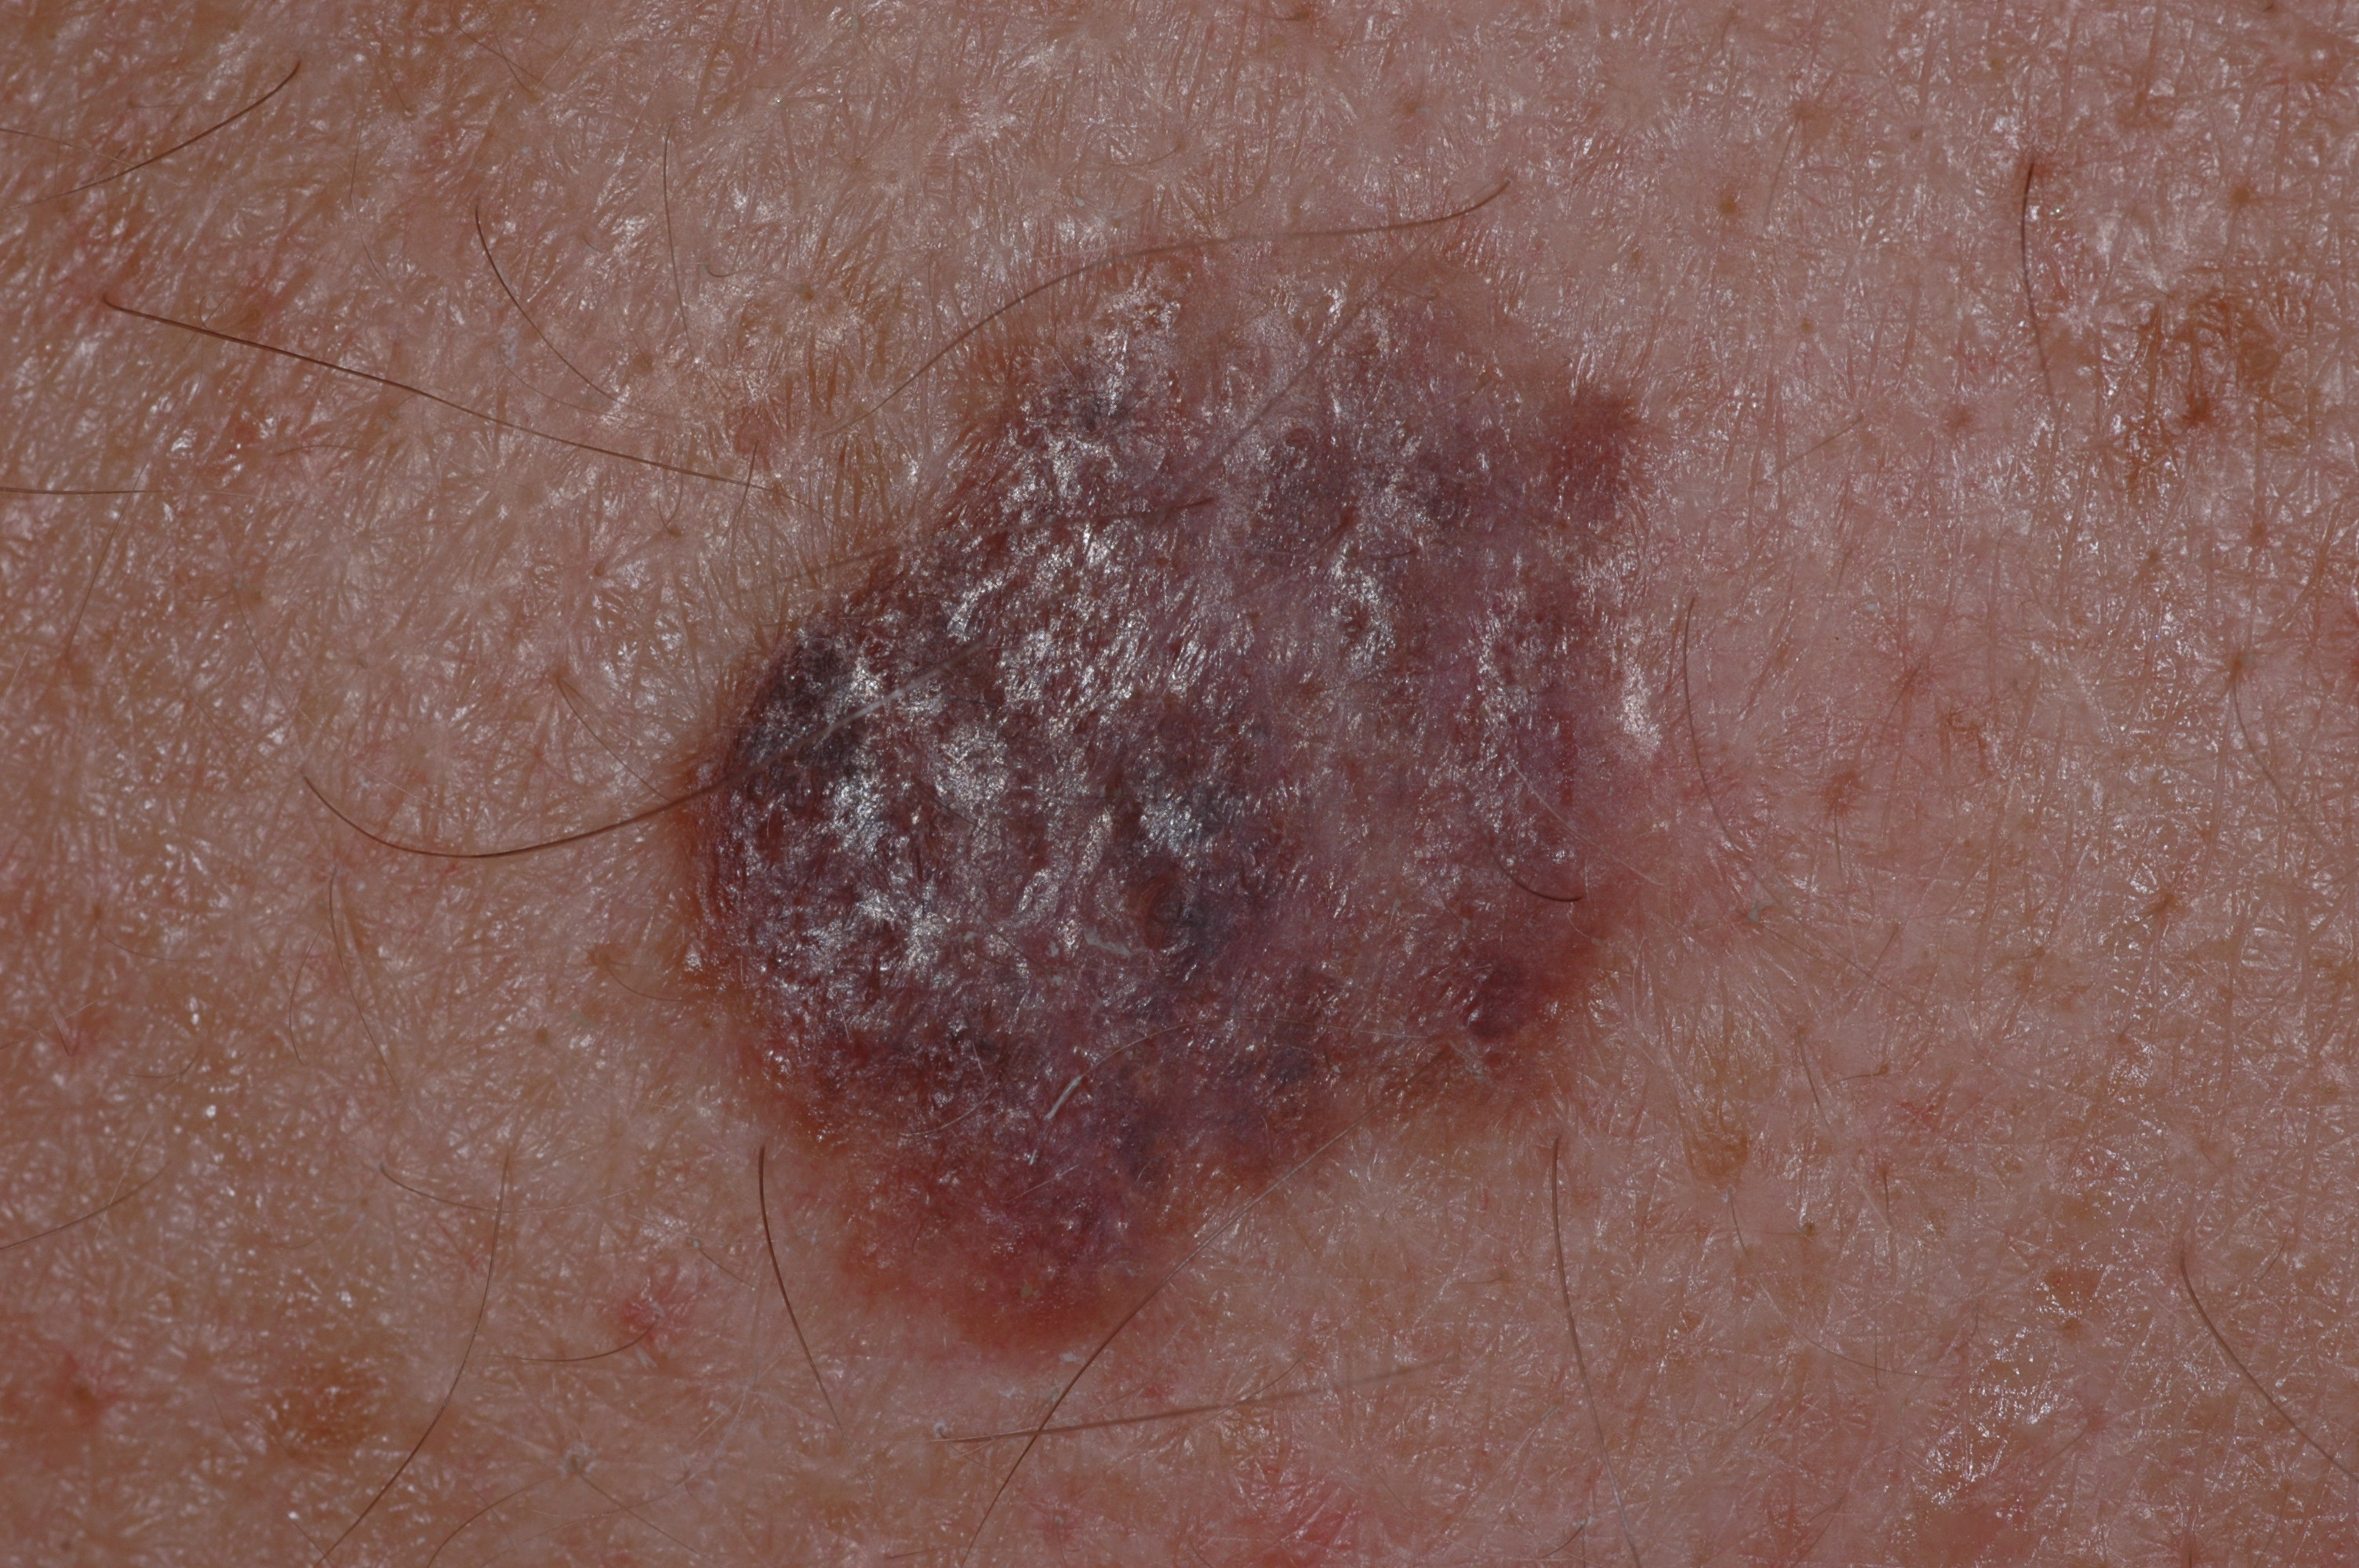Color changes: (780, 614, 917, 739)
